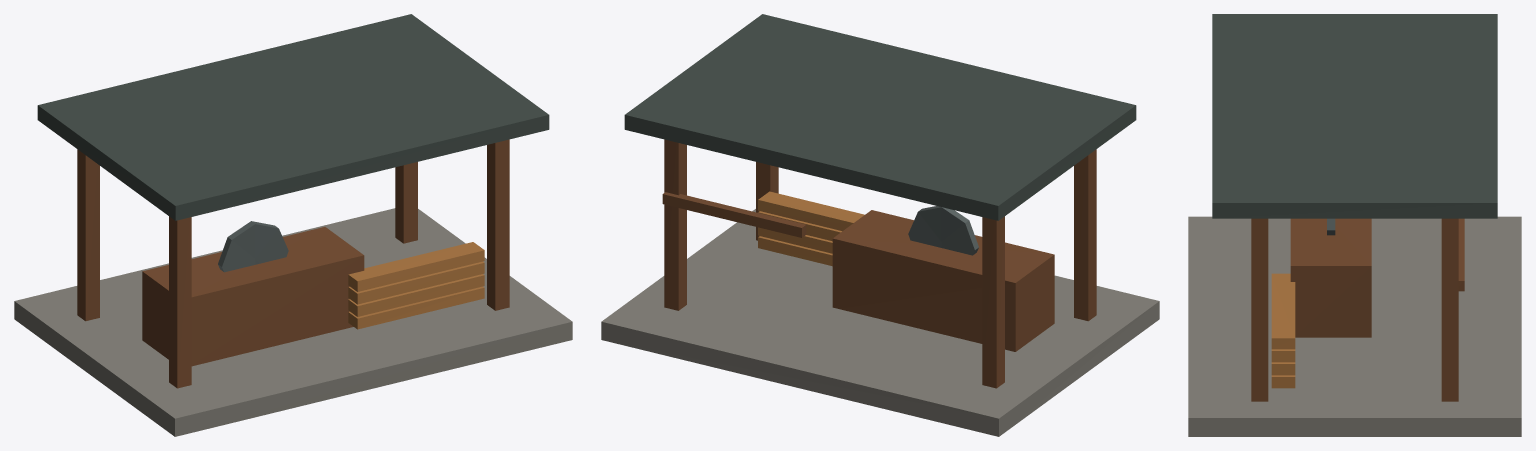
Rendered from Carpenter-Workshop.glb.
3 views of the same model, side by side, from view 1: azimuth 30°, elevation 25°; view 2: azimuth 150°, elevation 25°; view 3: azimuth 270°, elevation 25° (orthographic). The views are drawn at different scales.
Parts seen in each view (by area): view 1: carpenter-workshop-static-carpenter-roof, carpenter-workshop-static-carpenter-concrete, carpenter-workshop-static-carpenter-timber, carpenter-workshop-static-carpenter-cut-lumber, carpenter-workshop-static-carpenter-saw-metal; view 2: carpenter-workshop-static-carpenter-roof, carpenter-workshop-static-carpenter-concrete, carpenter-workshop-static-carpenter-timber, carpenter-workshop-static-carpenter-cut-lumber, carpenter-workshop-static-carpenter-saw-metal; view 3: carpenter-workshop-static-carpenter-roof, carpenter-workshop-static-carpenter-concrete, carpenter-workshop-static-carpenter-timber, carpenter-workshop-static-carpenter-cut-lumber.
Boxes of the visible parts, left/top/right/bottom form: carpenter-workshop-static-carpenter-roof: left=37, top=14, right=549, bottom=220; carpenter-workshop-static-carpenter-concrete: left=14, top=208, right=572, bottom=436; carpenter-workshop-static-carpenter-timber: left=77, top=139, right=509, bottom=388; carpenter-workshop-static-carpenter-cut-lumber: left=348, top=242, right=484, bottom=329; carpenter-workshop-static-carpenter-saw-metal: left=218, top=221, right=288, bottom=272; carpenter-workshop-static-carpenter-roof: left=624, top=14, right=1136, bottom=220; carpenter-workshop-static-carpenter-concrete: left=601, top=209, right=1159, bottom=436; carpenter-workshop-static-carpenter-timber: left=662, top=139, right=1096, bottom=388; carpenter-workshop-static-carpenter-cut-lumber: left=758, top=191, right=864, bottom=266; carpenter-workshop-static-carpenter-saw-metal: left=908, top=206, right=978, bottom=255; carpenter-workshop-static-carpenter-roof: left=1212, top=14, right=1497, bottom=218; carpenter-workshop-static-carpenter-concrete: left=1188, top=216, right=1521, bottom=436; carpenter-workshop-static-carpenter-timber: left=1251, top=218, right=1464, bottom=401; carpenter-workshop-static-carpenter-cut-lumber: left=1271, top=273, right=1295, bottom=388.
Size of the model in its own units: 5 by 2.64 by 3.5.
